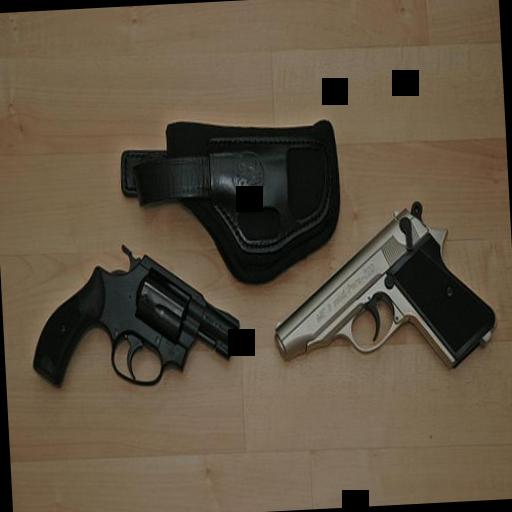Handgun: (267, 195, 494, 376), (20, 234, 243, 388)
